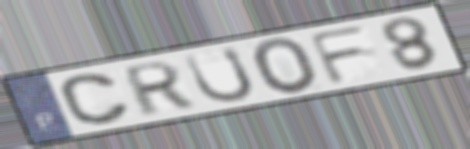8: (380, 15, 443, 72)
C: (56, 71, 134, 128)
F: (305, 23, 372, 87)
O: (249, 35, 322, 98)
R: (122, 58, 197, 120)
U: (181, 44, 258, 105)
